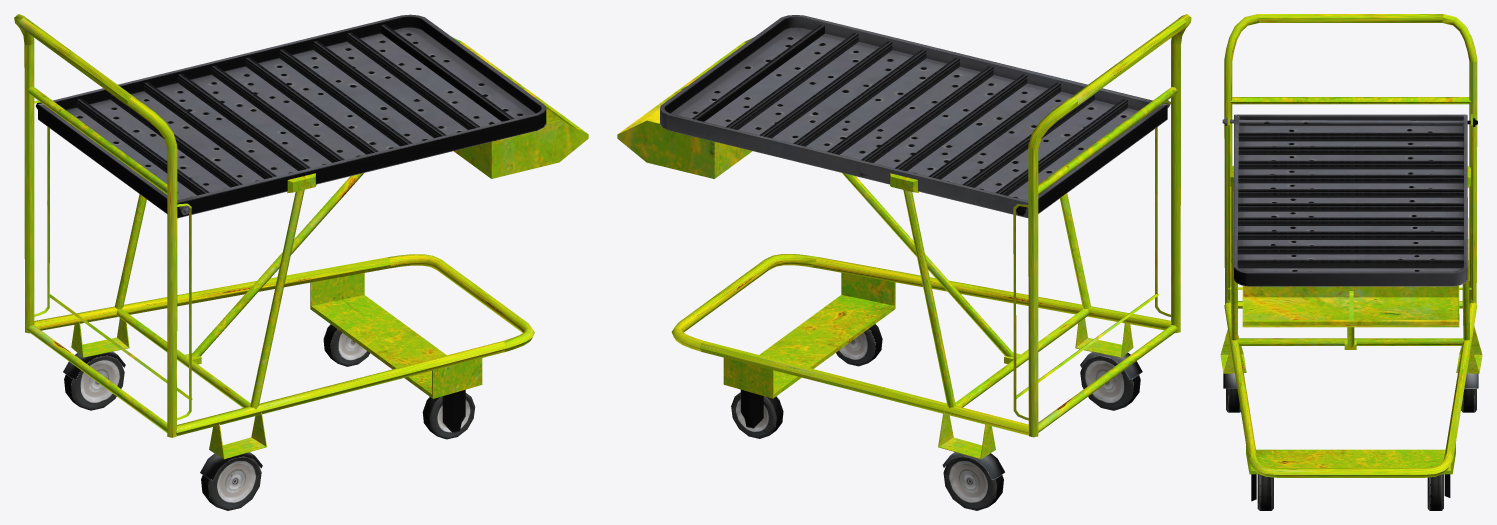
File: trolley.obj
3 renders of one model, left to right at view 1: azimuth 30°, elevation 25°; view 2: azimuth 150°, elevation 25°; view 3: azimuth 270°, elevation 25°, orthographic. The views are drawn at different scales.
Visible parts, largest first — view 1: Object02, trolley_00; view 2: Object02, trolley_00; view 3: Object02, trolley_00.
Boxes of the visible parts, box(x1,y1,x2,y2) form: Object02: box(35, 14, 546, 510); trolley_00: box(14, 14, 588, 459); Object02: box(660, 15, 1170, 510); trolley_00: box(617, 14, 1191, 459); Object02: box(1222, 114, 1478, 510); trolley_00: box(1220, 14, 1482, 477).
Bounding box in the file's own units: 65.47 × 58.18 × 38.33.
2 materials, 2 textured.
